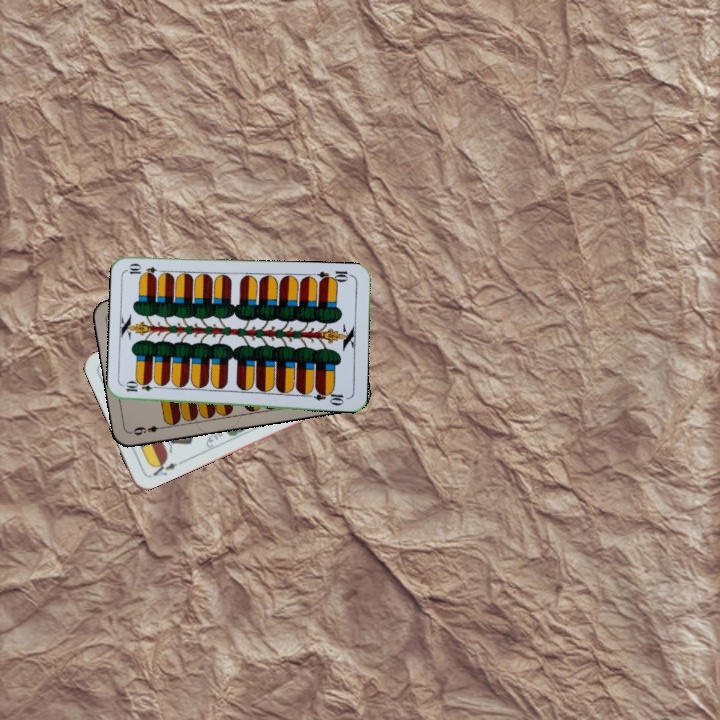E10: (314, 267, 355, 286), (122, 380, 162, 394)
E9: (129, 422, 168, 438)
EA: (148, 456, 185, 478)
